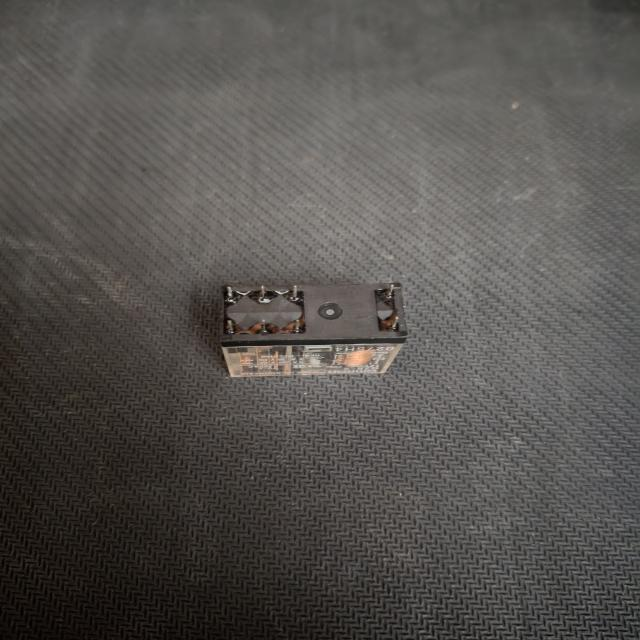relay: (202, 269, 419, 388)
